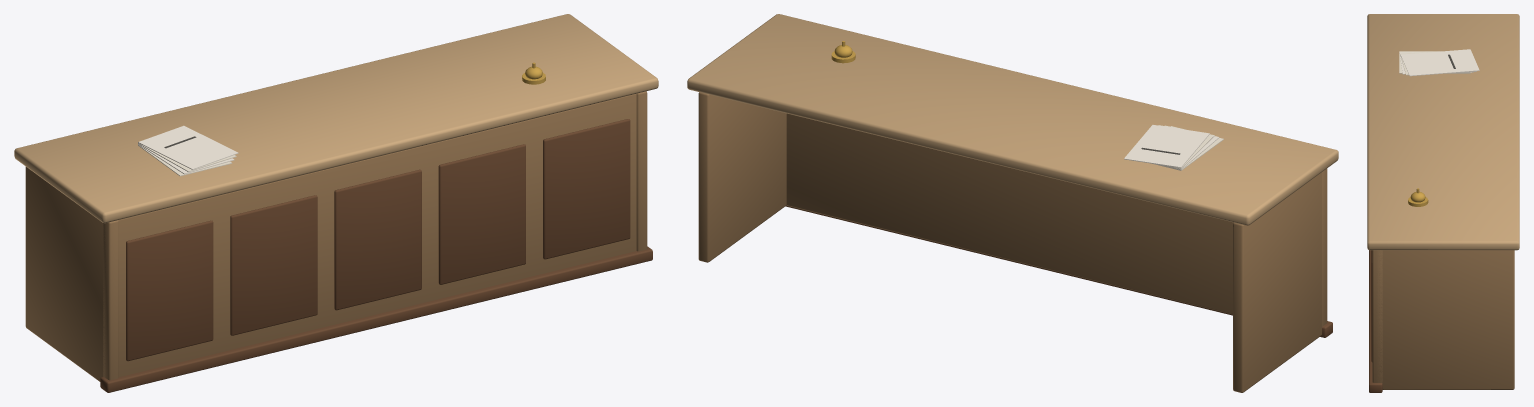
Rendered from front_desk.glb.
3 renders of one model, left to right at view 1: azimuth 30°, elevation 25°; view 2: azimuth 150°, elevation 25°; view 3: azimuth 270°, elevation 25°, orthographic. The views are drawn at different scales.
Parts seen in each view (by area): view 1: front_desk.001; view 2: front_desk.001; view 3: front_desk.001.
Part boxes in pixels (bbox=[...]): front_desk.001: bbox=[14, 14, 658, 392]; front_desk.001: bbox=[687, 14, 1338, 392]; front_desk.001: bbox=[1367, 14, 1519, 392].
Size of the model in its own units: 3.2 by 1.09 by 0.9.
